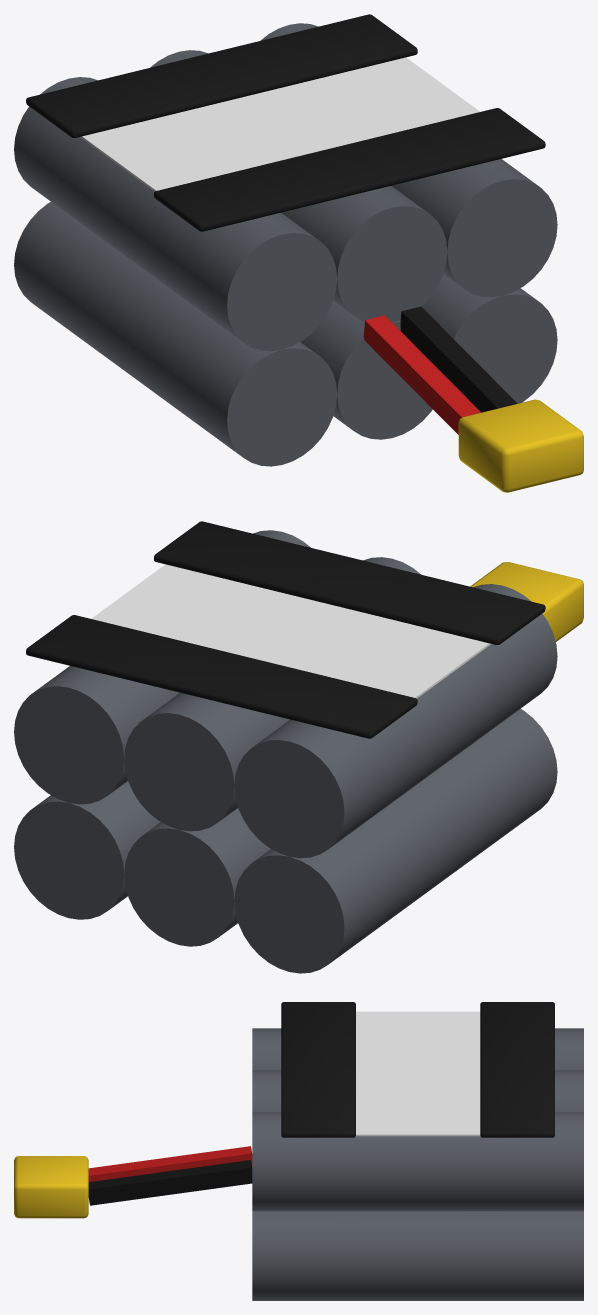
File: batt_6s4500.glb
The picture shows the model from 3 angles, top to bottom: view 1: azimuth 30°, elevation 25°; view 2: azimuth 150°, elevation 25°; view 3: azimuth 270°, elevation 25°; orthographic projection. The views are drawn at different scales.
Visible parts, largest first — view 1: batt_6s4500_M_Wrap_6s4500, batt_6s4500_M_Strap, batt_6s4500_M_Label, batt_6s4500_M_XT60, batt_6s4500_M_WireRed, batt_6s4500_M_WireBlack; view 2: batt_6s4500_M_Wrap_6s4500, batt_6s4500_M_Strap, batt_6s4500_M_Label, batt_6s4500_M_XT60; view 3: batt_6s4500_M_Wrap_6s4500, batt_6s4500_M_Strap, batt_6s4500_M_Label, batt_6s4500_M_XT60, batt_6s4500_M_WireBlack, batt_6s4500_M_WireRed.
Boxes of the visible parts, x1,y1,x2,y2 form: batt_6s4500_M_Wrap_6s4500: (14, 23, 557, 466); batt_6s4500_M_Strap: (26, 14, 545, 231); batt_6s4500_M_Label: (80, 57, 479, 191); batt_6s4500_M_XT60: (458, 399, 583, 492); batt_6s4500_M_WireRed: (363, 315, 480, 434); batt_6s4500_M_WireBlack: (400, 306, 517, 412); batt_6s4500_M_Wrap_6s4500: (14, 530, 557, 973); batt_6s4500_M_Strap: (26, 521, 545, 738); batt_6s4500_M_Label: (91, 564, 490, 698); batt_6s4500_M_XT60: (470, 562, 583, 641); batt_6s4500_M_Wrap_6s4500: (252, 1028, 583, 1300); batt_6s4500_M_Strap: (281, 1002, 554, 1137); batt_6s4500_M_Label: (356, 1011, 480, 1136); batt_6s4500_M_XT60: (14, 1156, 88, 1218); batt_6s4500_M_WireBlack: (88, 1160, 252, 1205); batt_6s4500_M_WireRed: (88, 1146, 252, 1181).
Size of the model in its own units: 0.0666 by 0.0443 by 0.122.
